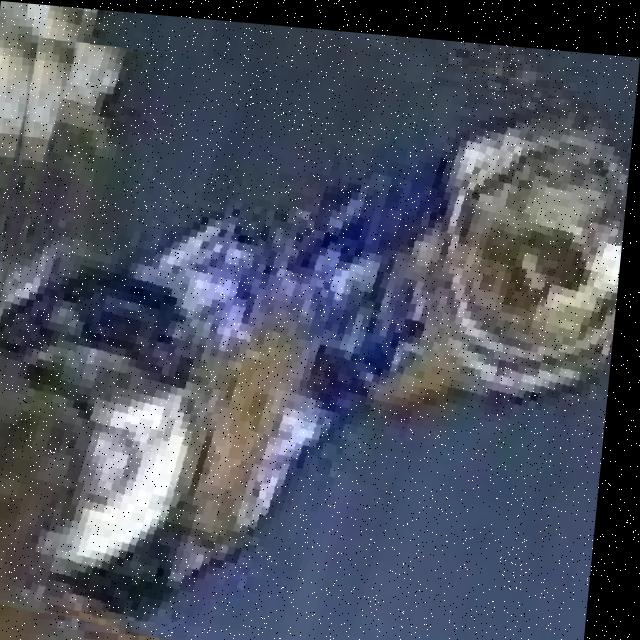litter: (0, 83, 630, 611)
